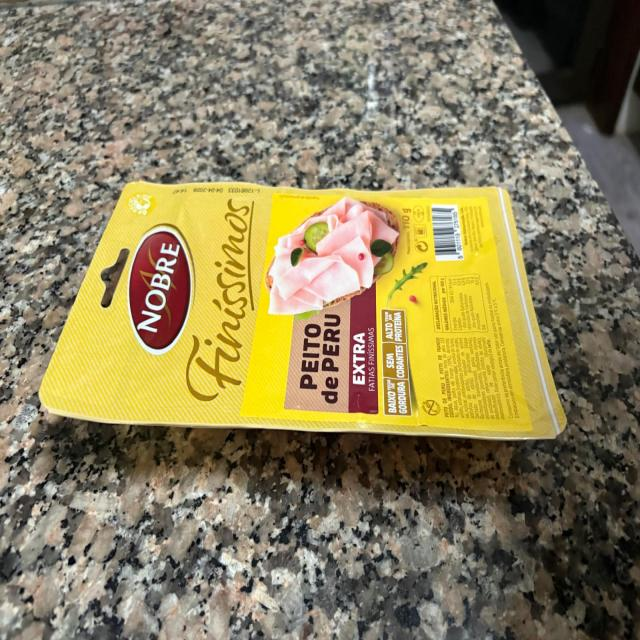good_package: (43, 182, 564, 441)
